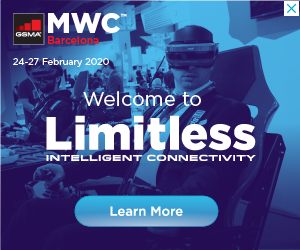fake_button: (74, 190, 224, 233), (278, 1, 300, 18)
